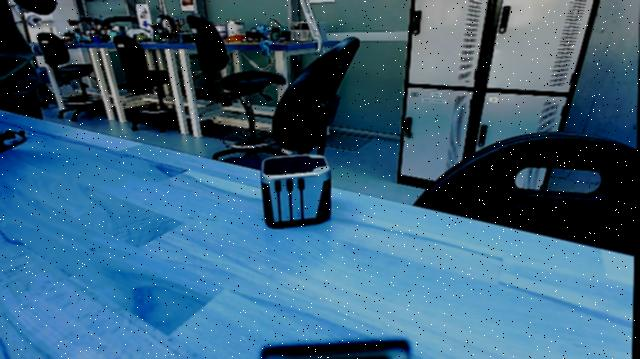adapter: (258, 152, 339, 232)
